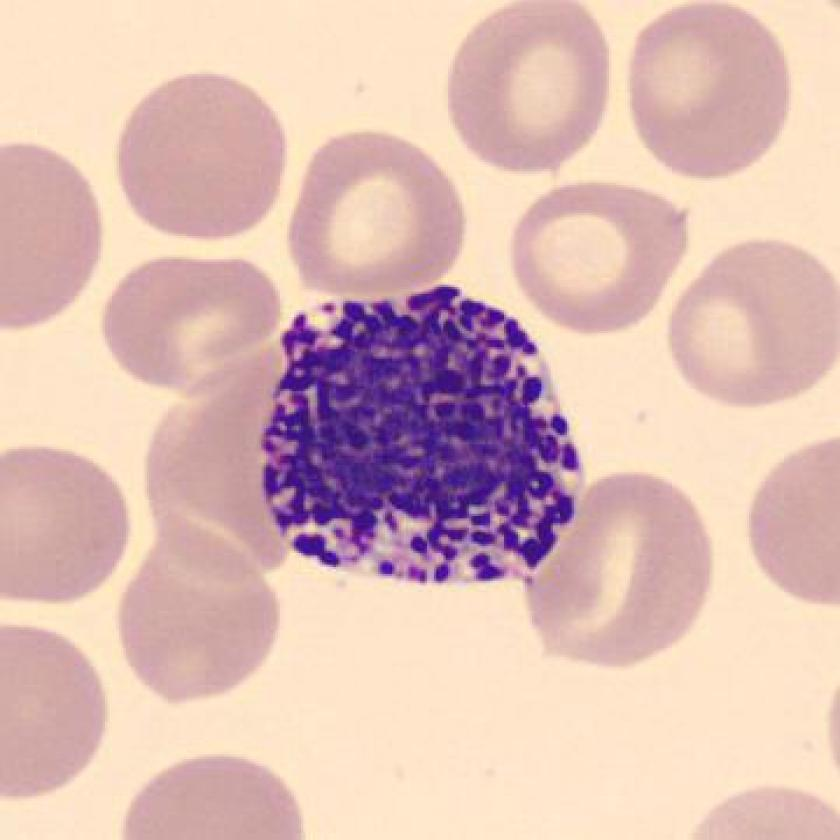basophil: (265, 295, 587, 598)
